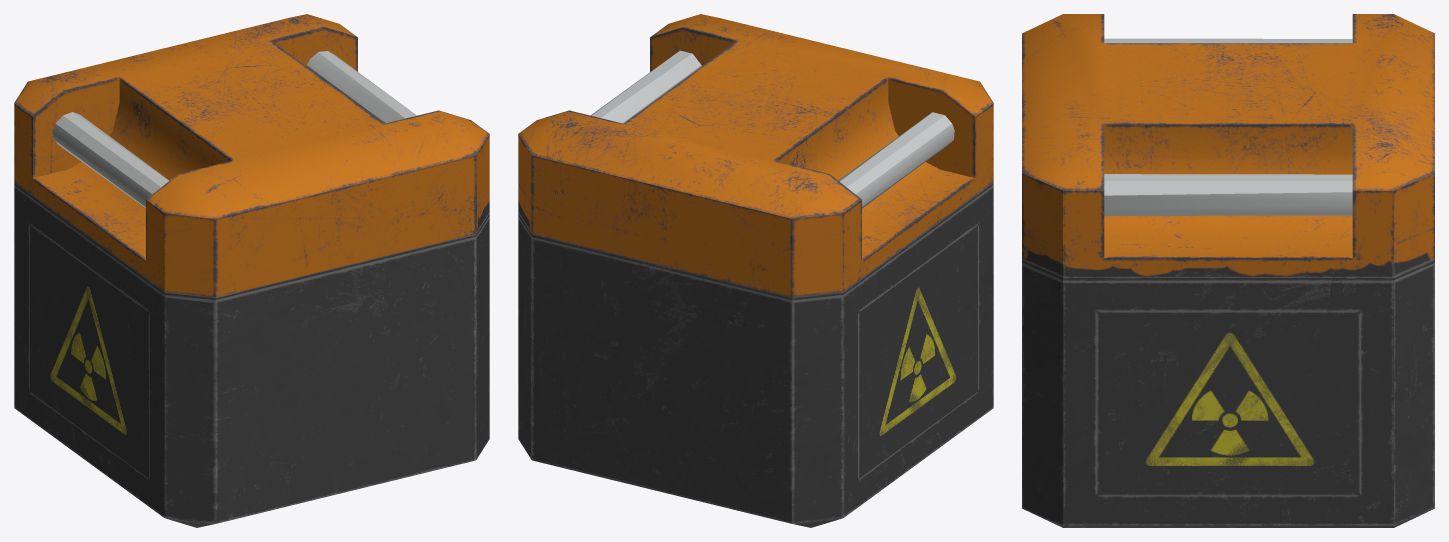
The model's file is Item_Box.fbx.
3 renders of one model, left to right at view 1: azimuth 30°, elevation 25°; view 2: azimuth 150°, elevation 25°; view 3: azimuth 270°, elevation 25°, orthographic. The views are drawn at different scales.
Parts seen in each view (by area): view 1: Item_Box; view 2: Item_Box; view 3: Item_Box.
Boxes of the visible parts, box(x1,y1,x2,y2) form: Item_Box: box(14, 14, 489, 527); Item_Box: box(518, 14, 993, 527); Item_Box: box(1022, 14, 1434, 527).
Size of the model in its own units: 164 by 164 by 164.
Materials: 1 (1 with a texture image).
